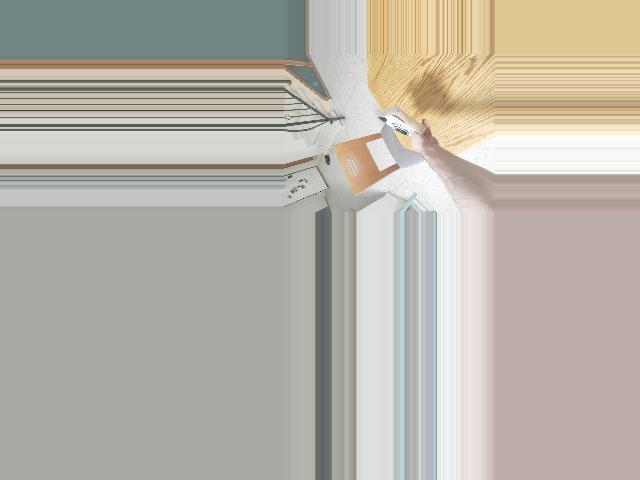cheese: (377, 105, 426, 139)
